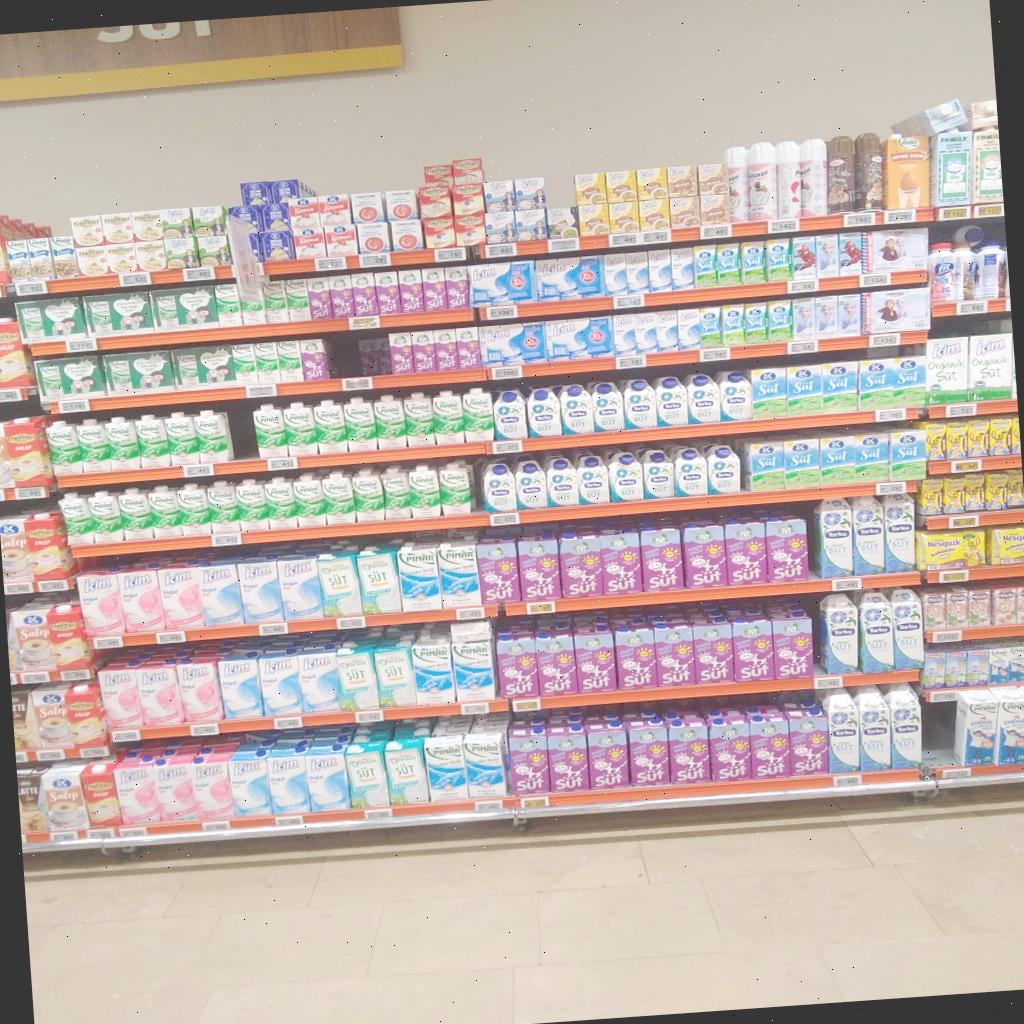price_tag: (843, 211, 877, 228), (485, 304, 518, 321), (348, 315, 381, 332), (615, 354, 647, 371), (868, 332, 902, 348), (15, 280, 49, 296), (874, 408, 907, 424), (787, 278, 819, 294), (59, 398, 91, 414), (640, 229, 672, 245), (315, 256, 347, 272), (489, 365, 523, 380), (701, 224, 732, 240), (360, 252, 391, 268), (767, 218, 800, 233), (491, 440, 524, 455), (612, 294, 645, 309), (66, 338, 98, 353), (884, 209, 916, 224), (92, 635, 124, 650), (434, 248, 466, 263), (183, 267, 214, 282), (831, 577, 862, 592), (860, 272, 891, 287), (787, 340, 818, 355), (119, 273, 152, 287), (212, 532, 242, 547), (456, 606, 486, 621), (183, 464, 215, 478), (341, 377, 373, 391), (874, 482, 906, 496), (608, 233, 640, 247), (511, 698, 542, 712), (258, 623, 289, 637), (700, 348, 731, 362), (489, 512, 520, 526), (486, 243, 517, 257), (268, 457, 298, 471), (549, 238, 579, 252), (245, 385, 277, 398), (274, 716, 303, 730), (527, 601, 556, 615), (190, 723, 219, 737), (110, 730, 141, 743), (155, 631, 186, 644), (336, 617, 367, 630), (356, 710, 384, 724), (833, 775, 862, 788), (814, 676, 843, 689), (520, 796, 549, 809), (462, 702, 490, 715), (474, 800, 504, 812), (365, 809, 393, 821), (118, 827, 148, 838), (275, 816, 304, 827), (201, 822, 230, 832)
product: (883, 134, 930, 209), (78, 570, 128, 637), (819, 594, 860, 675), (883, 685, 922, 770), (462, 729, 508, 801), (114, 757, 161, 826), (16, 298, 88, 343), (853, 687, 891, 772), (34, 355, 105, 400), (189, 750, 234, 821), (863, 225, 928, 274), (761, 517, 810, 582), (228, 745, 272, 817), (508, 725, 552, 796), (585, 719, 629, 790), (239, 559, 287, 624), (681, 523, 729, 588), (85, 291, 154, 336), (535, 256, 605, 300), (385, 736, 429, 806), (476, 535, 521, 603), (517, 533, 562, 601), (597, 527, 642, 595), (104, 351, 175, 394), (345, 738, 388, 809), (200, 563, 248, 626), (653, 620, 698, 687), (627, 717, 670, 787), (857, 592, 894, 673), (545, 316, 613, 360), (862, 289, 930, 333), (317, 552, 363, 617), (398, 546, 443, 612), (559, 532, 604, 598), (219, 653, 264, 719), (547, 724, 590, 793), (668, 715, 711, 784), (137, 662, 184, 725), (154, 755, 198, 822), (357, 550, 403, 614), (267, 747, 310, 815), (336, 644, 380, 710), (640, 526, 684, 592), (469, 262, 538, 304), (119, 570, 165, 633), (159, 566, 205, 629), (786, 707, 828, 776), (479, 323, 546, 366), (574, 626, 617, 693), (306, 745, 349, 812), (708, 715, 751, 782), (278, 556, 323, 620), (374, 647, 422, 707), (154, 285, 219, 329), (731, 617, 775, 682), (770, 614, 814, 679), (412, 639, 455, 705), (535, 630, 578, 696), (425, 735, 468, 801), (438, 543, 482, 607), (177, 662, 223, 723), (497, 633, 540, 698), (99, 666, 143, 729), (890, 589, 923, 673), (614, 625, 657, 689), (724, 521, 767, 584), (748, 713, 789, 779), (826, 692, 859, 774), (172, 345, 234, 388), (451, 643, 496, 702), (259, 655, 302, 716), (298, 652, 340, 712), (693, 623, 734, 684), (747, 142, 777, 221), (855, 132, 883, 211), (800, 139, 828, 216), (540, 206, 605, 239), (828, 135, 855, 214), (47, 421, 83, 480), (743, 441, 785, 491), (749, 367, 790, 418), (888, 429, 928, 480), (135, 415, 172, 468), (857, 359, 895, 410), (783, 438, 821, 489), (821, 361, 858, 413), (193, 412, 232, 461), (724, 146, 749, 222), (76, 420, 112, 472), (253, 405, 288, 458), (776, 141, 800, 218), (343, 397, 377, 451), (559, 384, 595, 435), (513, 460, 549, 511), (105, 418, 140, 470), (89, 491, 124, 543), (685, 374, 720, 425), (718, 371, 753, 422), (373, 395, 406, 449), (433, 390, 466, 444), (165, 413, 199, 465), (284, 403, 318, 455), (60, 493, 94, 545), (526, 388, 562, 437), (786, 366, 822, 415), (462, 387, 494, 442), (493, 390, 528, 440), (314, 400, 347, 453), (177, 484, 211, 535), (236, 480, 270, 531), (403, 393, 435, 447), (819, 436, 855, 484), (207, 481, 240, 533), (264, 476, 297, 528), (293, 475, 326, 527), (609, 452, 644, 501), (118, 489, 152, 539), (483, 463, 517, 513), (322, 472, 355, 523), (546, 458, 580, 507), (654, 377, 688, 426), (707, 445, 741, 494), (855, 432, 889, 481), (148, 486, 180, 538), (439, 464, 471, 515), (642, 451, 676, 499), (624, 380, 657, 429), (353, 469, 384, 521), (409, 465, 440, 517), (592, 383, 625, 431), (577, 456, 609, 505), (675, 449, 708, 496), (895, 355, 926, 405), (381, 468, 410, 520), (325, 275, 356, 318), (213, 284, 242, 327), (50, 237, 80, 278), (612, 315, 642, 356), (509, 177, 546, 210), (104, 244, 146, 273), (374, 271, 402, 314), (351, 273, 379, 316), (299, 339, 328, 380), (397, 269, 424, 312), (284, 279, 311, 322), (288, 198, 321, 233), (306, 278, 333, 320), (262, 281, 289, 323), (253, 342, 280, 384), (71, 215, 105, 248), (325, 223, 359, 256), (418, 185, 451, 219), (27, 238, 55, 278), (277, 340, 304, 381), (453, 327, 480, 368), (765, 239, 792, 280), (647, 250, 673, 292), (101, 213, 135, 245), (390, 219, 424, 251), (422, 217, 456, 249), (513, 209, 547, 241), (578, 204, 612, 236), (699, 191, 731, 225), (164, 237, 199, 268), (350, 192, 385, 223), (76, 246, 112, 276), (791, 236, 816, 279), (258, 231, 295, 260), (6, 240, 32, 281), (444, 267, 470, 308), (421, 268, 447, 309), (483, 179, 515, 212), (484, 211, 516, 244), (574, 173, 607, 205), (839, 231, 863, 275), (192, 205, 226, 236), (196, 234, 230, 265), (603, 253, 628, 295), (715, 243, 740, 285), (233, 344, 259, 384), (693, 244, 717, 287), (816, 234, 840, 277), (626, 251, 651, 292), (740, 242, 765, 283), (767, 300, 792, 341), (744, 303, 769, 344), (135, 240, 167, 272), (606, 171, 638, 203), (636, 168, 668, 200), (294, 228, 327, 259), (385, 189, 418, 220), (357, 222, 390, 253), (815, 296, 840, 336), (655, 312, 680, 352), (319, 196, 350, 228), (452, 184, 484, 215), (667, 165, 698, 197), (697, 163, 728, 195), (638, 199, 670, 230), (722, 303, 745, 346), (240, 287, 266, 325), (433, 329, 457, 370), (699, 307, 723, 348), (792, 298, 817, 337), (671, 248, 694, 290), (162, 207, 193, 238), (608, 202, 639, 233), (132, 210, 162, 242), (455, 214, 485, 246), (389, 333, 413, 373), (412, 331, 436, 371), (677, 309, 701, 349), (635, 313, 659, 353), (229, 206, 266, 231), (838, 295, 861, 334), (670, 198, 699, 228), (452, 158, 484, 184), (264, 204, 291, 231), (241, 181, 271, 205), (269, 179, 297, 202), (424, 164, 452, 185)
